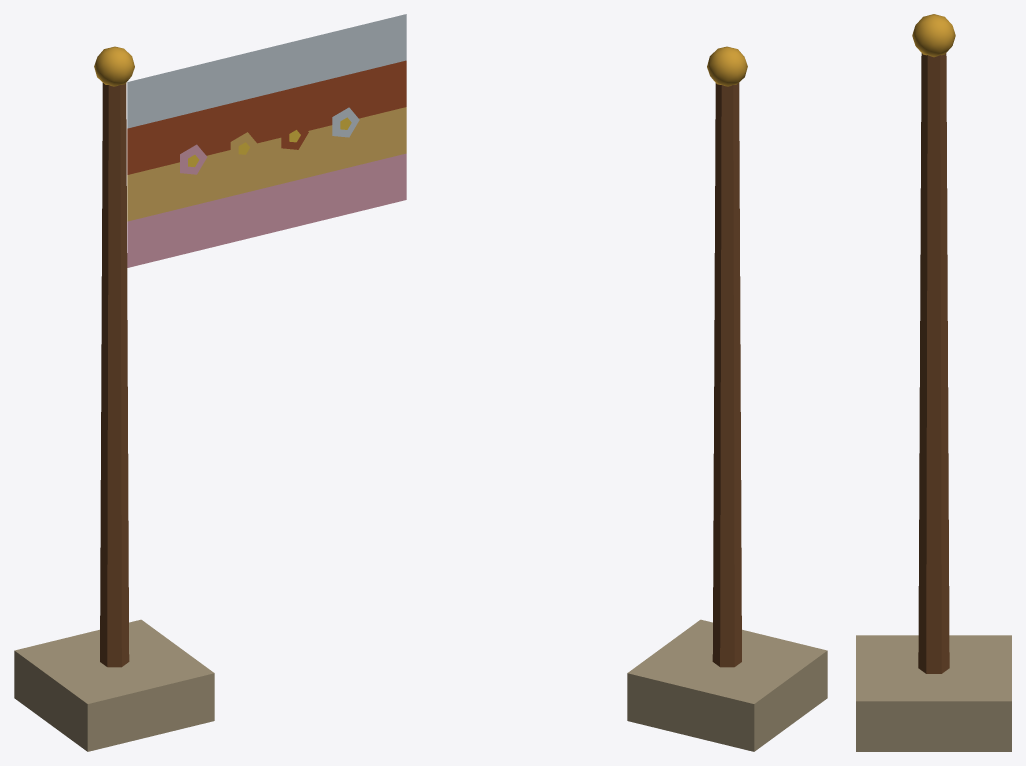
The model's file is season_pennant.glb.
3 renders of one model, left to right at view 1: azimuth 30°, elevation 25°; view 2: azimuth 150°, elevation 25°; view 3: azimuth 270°, elevation 25°, orthographic. The views are drawn at different scales.
Visible parts, largest first — view 1: decor-season_pennant; view 2: decor-season_pennant; view 3: decor-season_pennant.
Boxes of the visible parts, left/top/right/bottom form: decor-season_pennant: left=14, top=14, right=406, bottom=751; decor-season_pennant: left=627, top=46, right=827, bottom=751; decor-season_pennant: left=856, top=14, right=1011, bottom=751.
Bounding box in the file's own units: 1.4 × 2.49 × 0.5.
